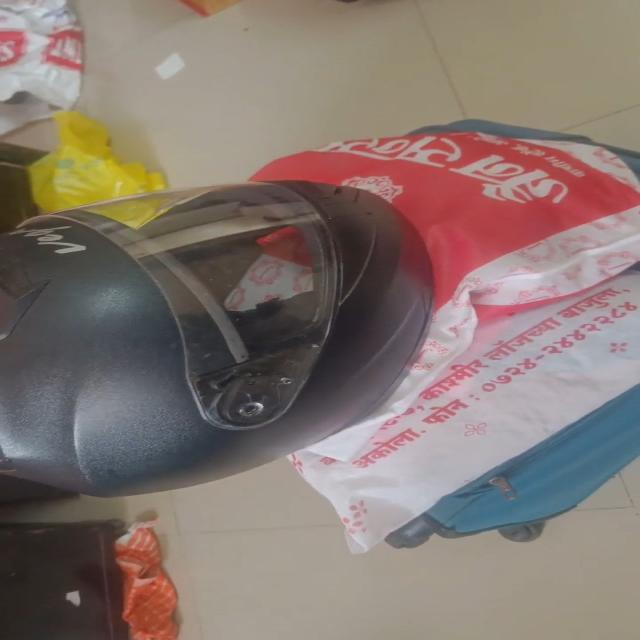Helmet: (0, 180, 433, 500)
